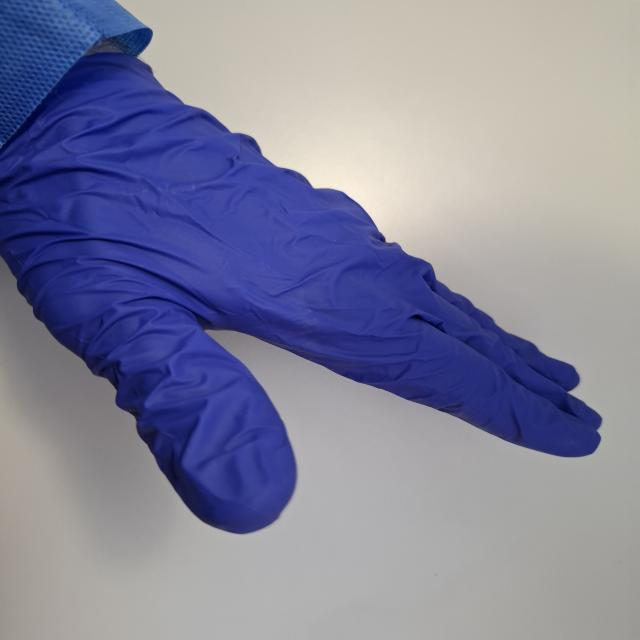glove_on: (0, 34, 609, 538)
